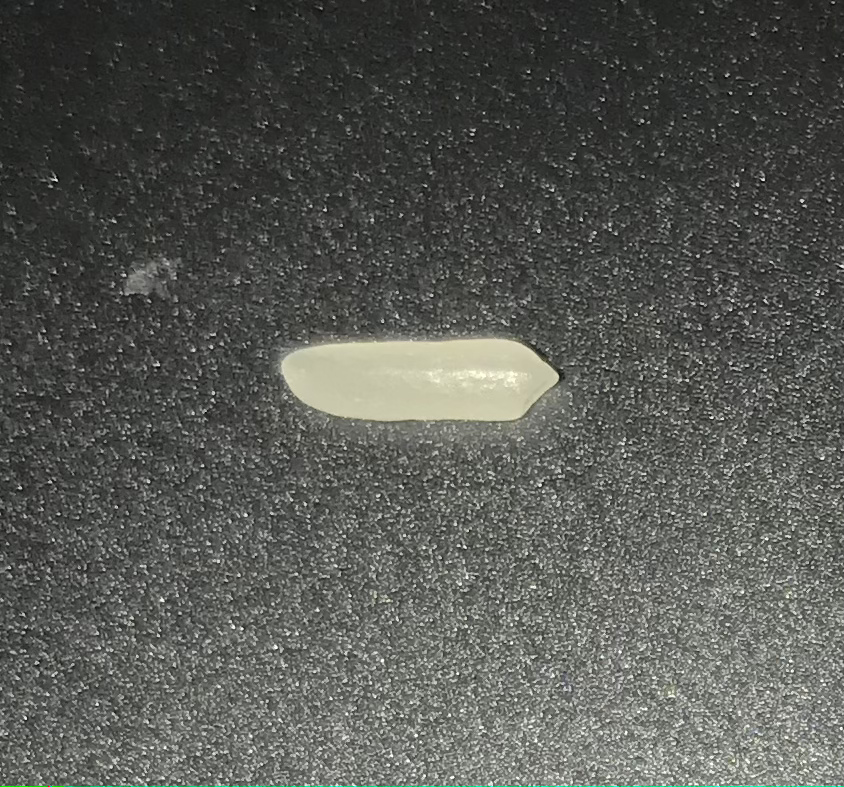Gao Thom My: (261, 323, 572, 448)
